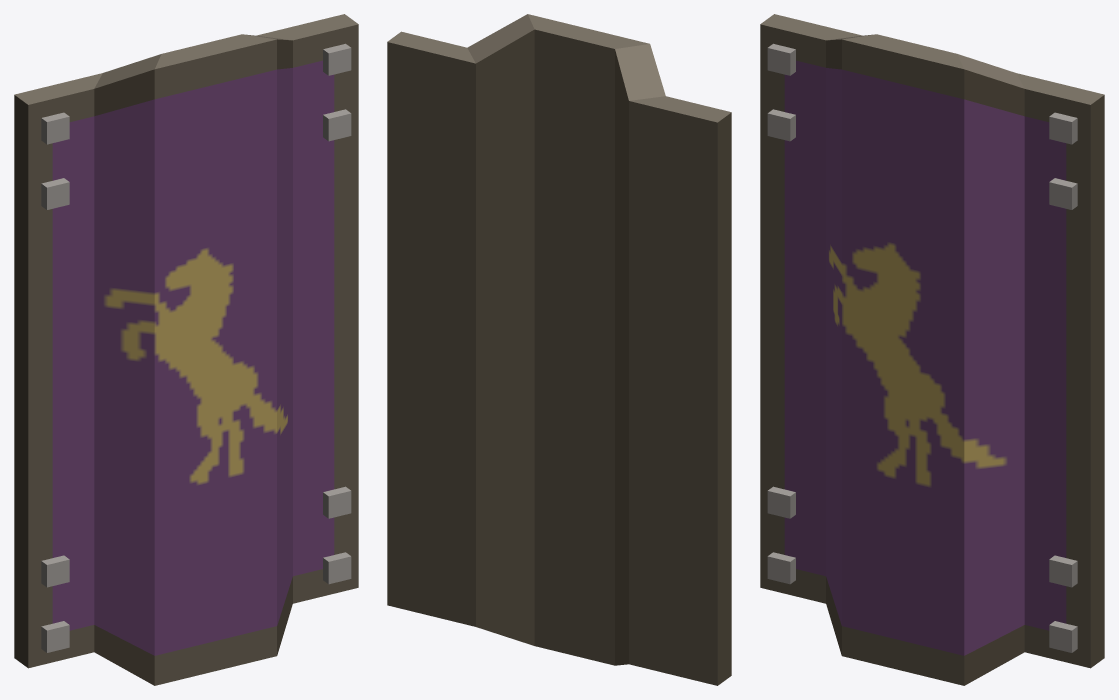
Rendered from SF_Wep_TowerShield_08.fbx.
3 renders of one model, left to right at view 1: azimuth 30°, elevation 25°; view 2: azimuth 150°, elevation 25°; view 3: azimuth 330°, elevation 25°, orthographic.
Parts seen in each view (by area): view 1: SF_Wep_TowerShield_08; view 2: SF_Wep_TowerShield_08; view 3: SF_Wep_TowerShield_08.
Boxes of the visible parts, x1,y1,x2,y2 form: SF_Wep_TowerShield_08: (14, 14, 358, 685); SF_Wep_TowerShield_08: (387, 14, 731, 685); SF_Wep_TowerShield_08: (760, 14, 1104, 685).
Size of the model in its own units: 1.33 by 2.37 by 0.2542.
